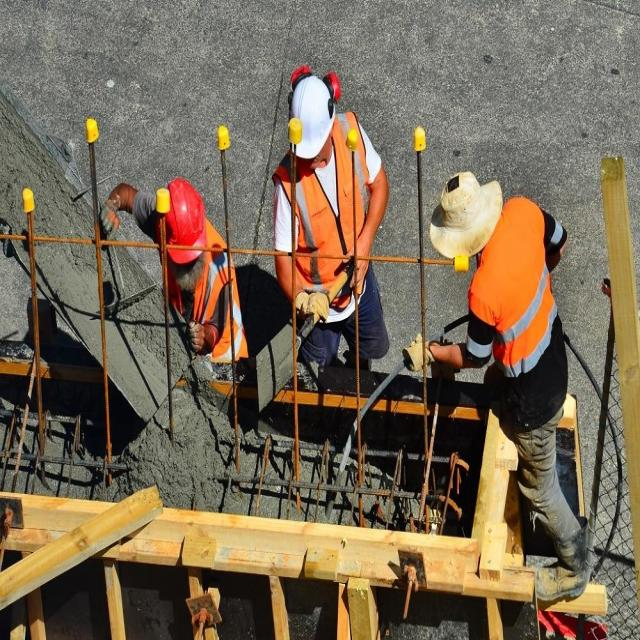Reflective-Jacket: (274, 130, 378, 325), (470, 197, 553, 373)
Safety-Helmet: (430, 165, 490, 262), (287, 72, 336, 154), (160, 173, 207, 250)
